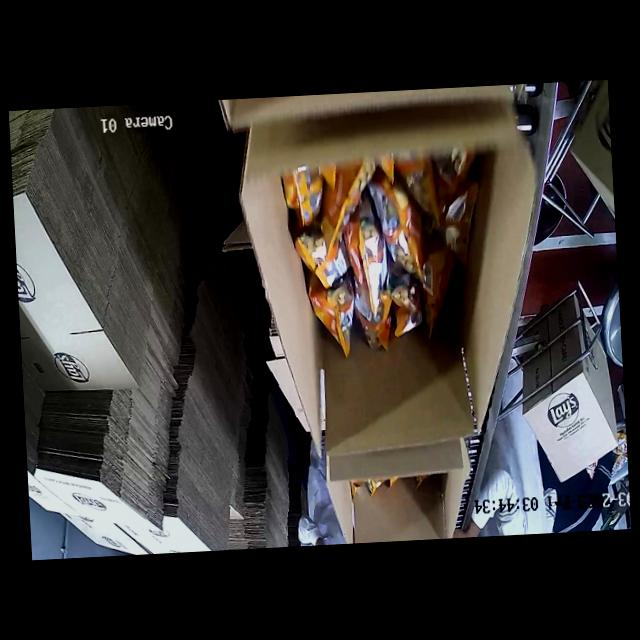cheese: (277, 145, 458, 355), (339, 470, 441, 500)
